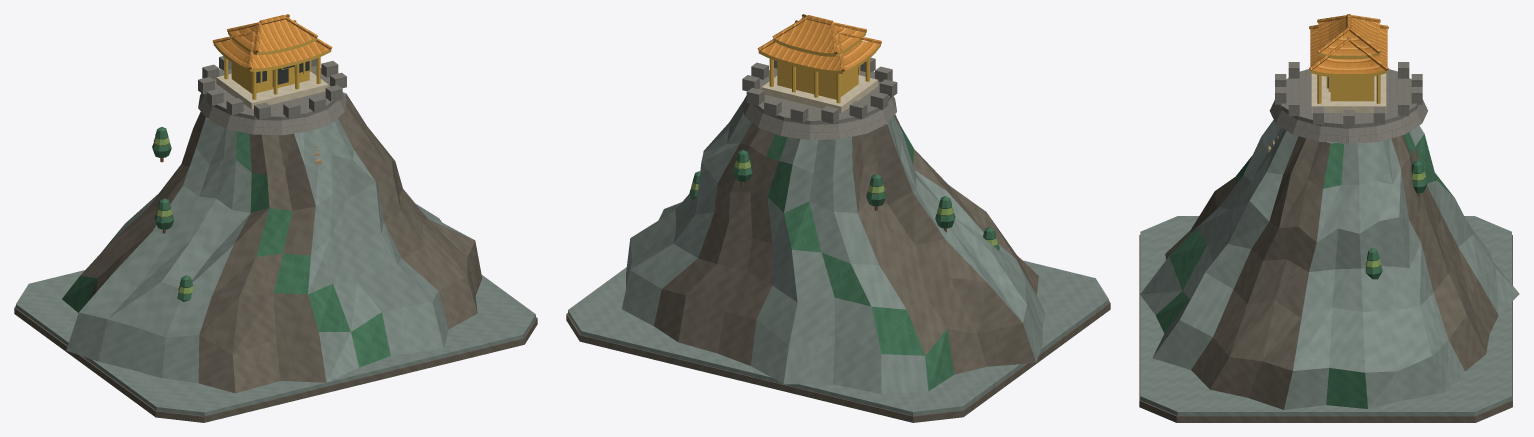
Rendered from wudang.glb.
3 renders of one model, left to right at view 1: azimuth 30°, elevation 25°; view 2: azimuth 150°, elevation 25°; view 3: azimuth 270°, elevation 25°, orthographic. The views are drawn at different scales.
Parts seen in each view (by area): view 1: 武当山; view 2: 武当山; view 3: 武当山.
Part boxes in pixels (bbox=[...]): 武当山: bbox=[14, 14, 537, 422]; 武当山: bbox=[566, 14, 1110, 422]; 武当山: bbox=[1139, 14, 1519, 422].
Bounding box in the file's own units: 10.29 × 7.33 × 8.2.
Materials: 12 (12 with a texture image).
